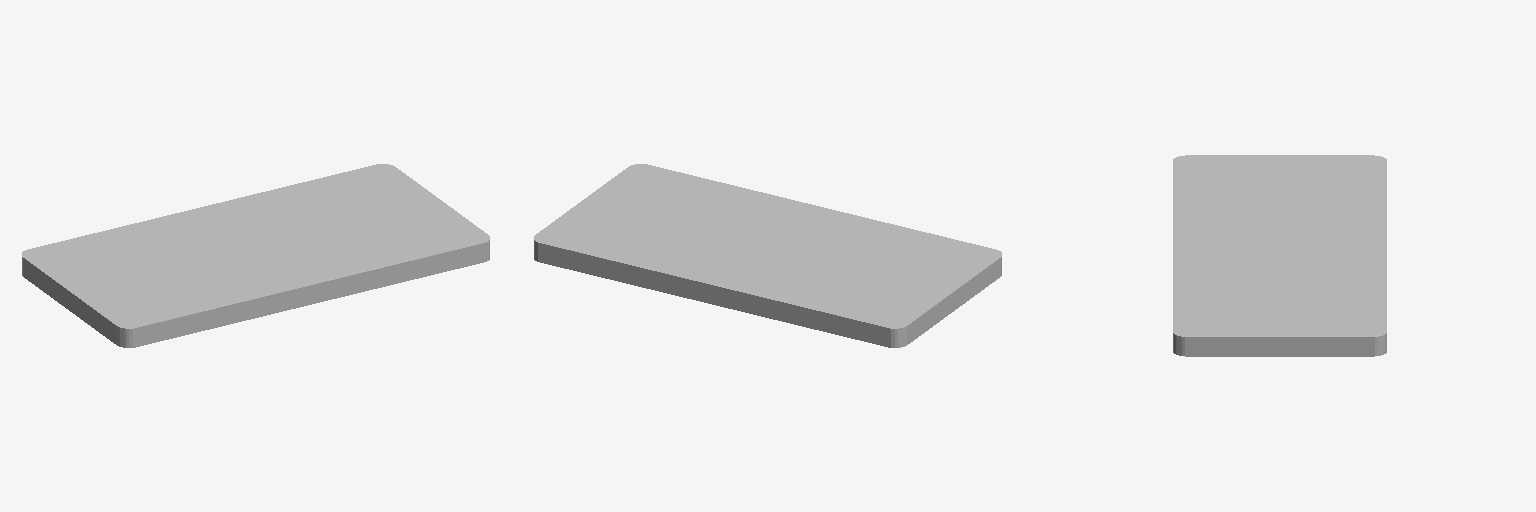
File: ui_element_rrect.obj
3 views of the same model, side by side, from view 1: azimuth 30°, elevation 25°; view 2: azimuth 150°, elevation 25°; view 3: azimuth 270°, elevation 25° (orthographic).
Parts seen in each view (by area): view 1: Cube; view 2: Cube; view 3: Cube.
Part boxes in pixels (bbox=[...]): Cube: bbox=[22, 164, 489, 347]; Cube: bbox=[534, 164, 1001, 347]; Cube: bbox=[1173, 155, 1386, 356].
Bounding box in the file's own units: 2 × 0.1 × 1.